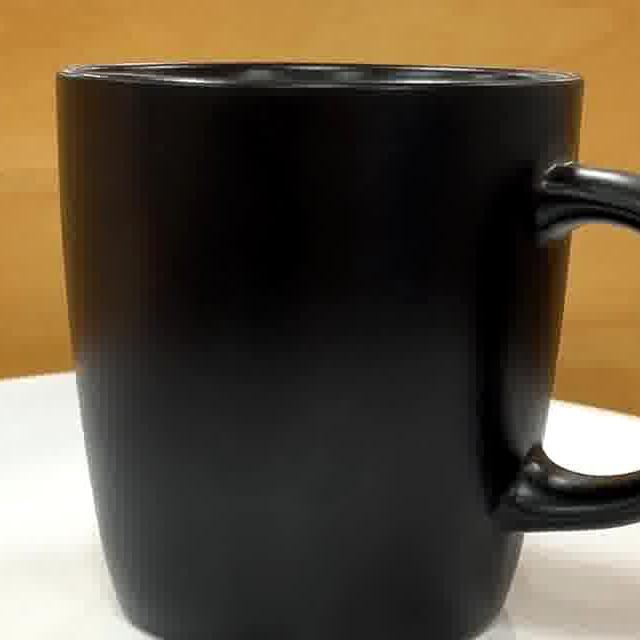cup: (63, 63, 640, 640)
